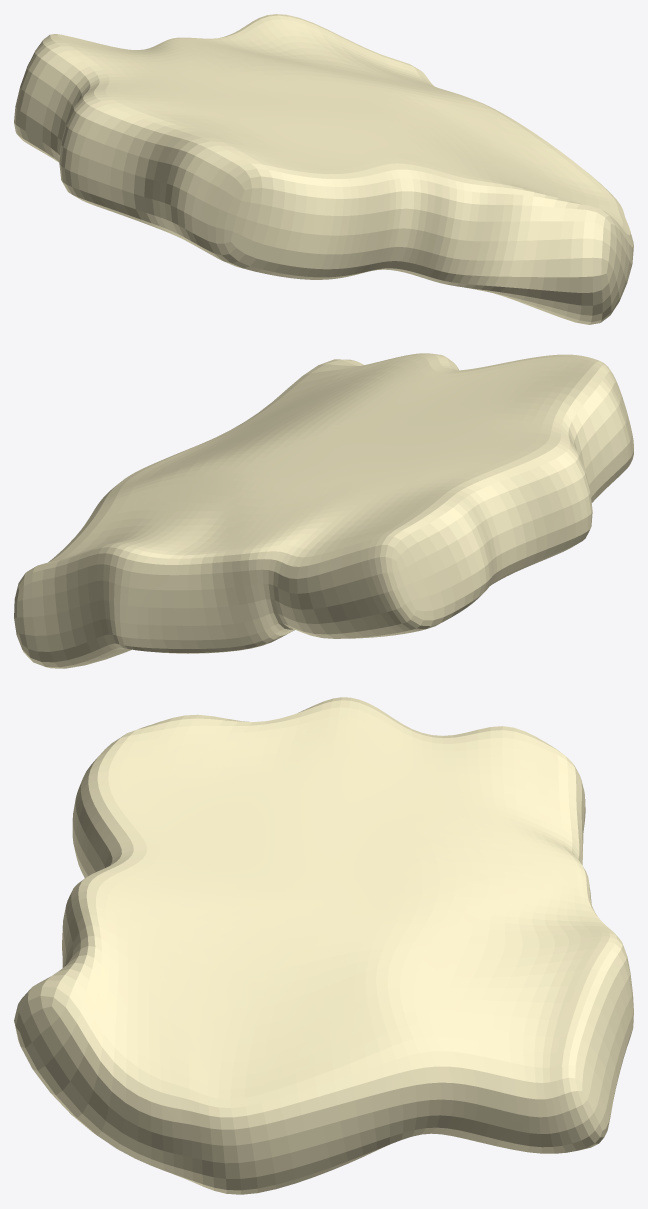
The model's file is MayonnaisePoured.fbx.
The picture shows the model from 3 angles, top to bottom: view 1: azimuth 30°, elevation 25°; view 2: azimuth 150°, elevation 25°; view 3: azimuth 270°, elevation 25°; orthographic projection. The views are drawn at different scales.
Parts seen in each view (by area): view 1: TomatoPoured; view 2: TomatoPoured; view 3: TomatoPoured.
Part boxes in pixels (box(x1,y1,x2,y2)): TomatoPoured: box(14, 14, 633, 324); TomatoPoured: box(14, 353, 633, 668); TomatoPoured: box(14, 697, 633, 1194).
Size of the model in its own units: 262 by 130 by 268.
